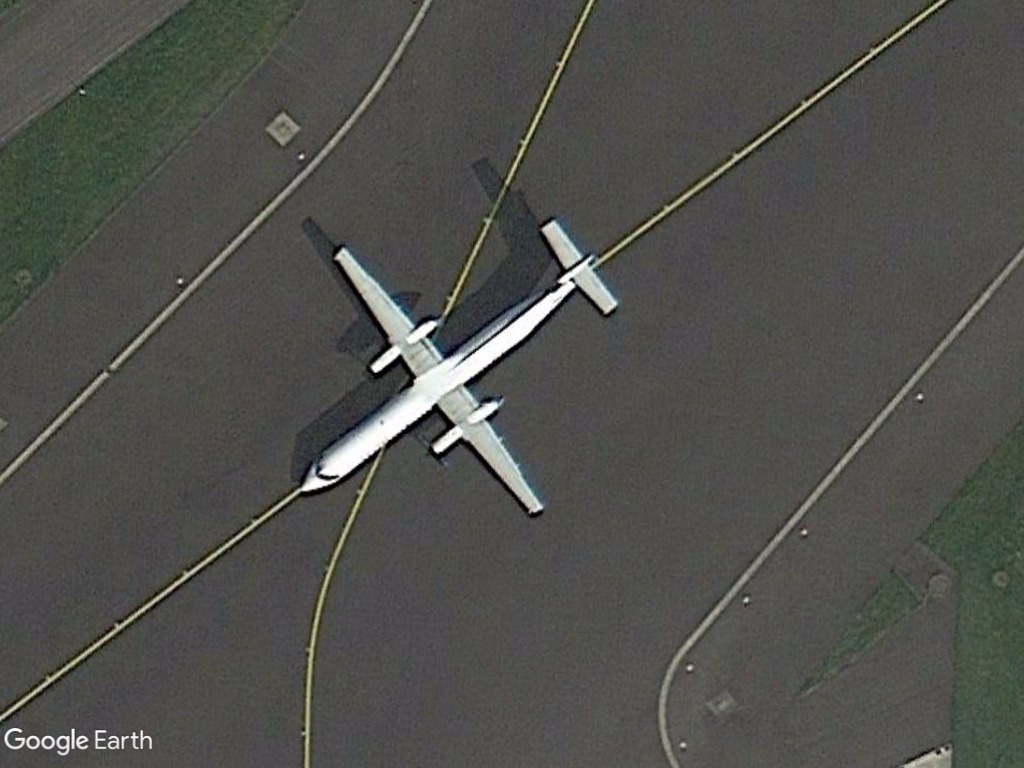propeller: (279, 209, 631, 535)
